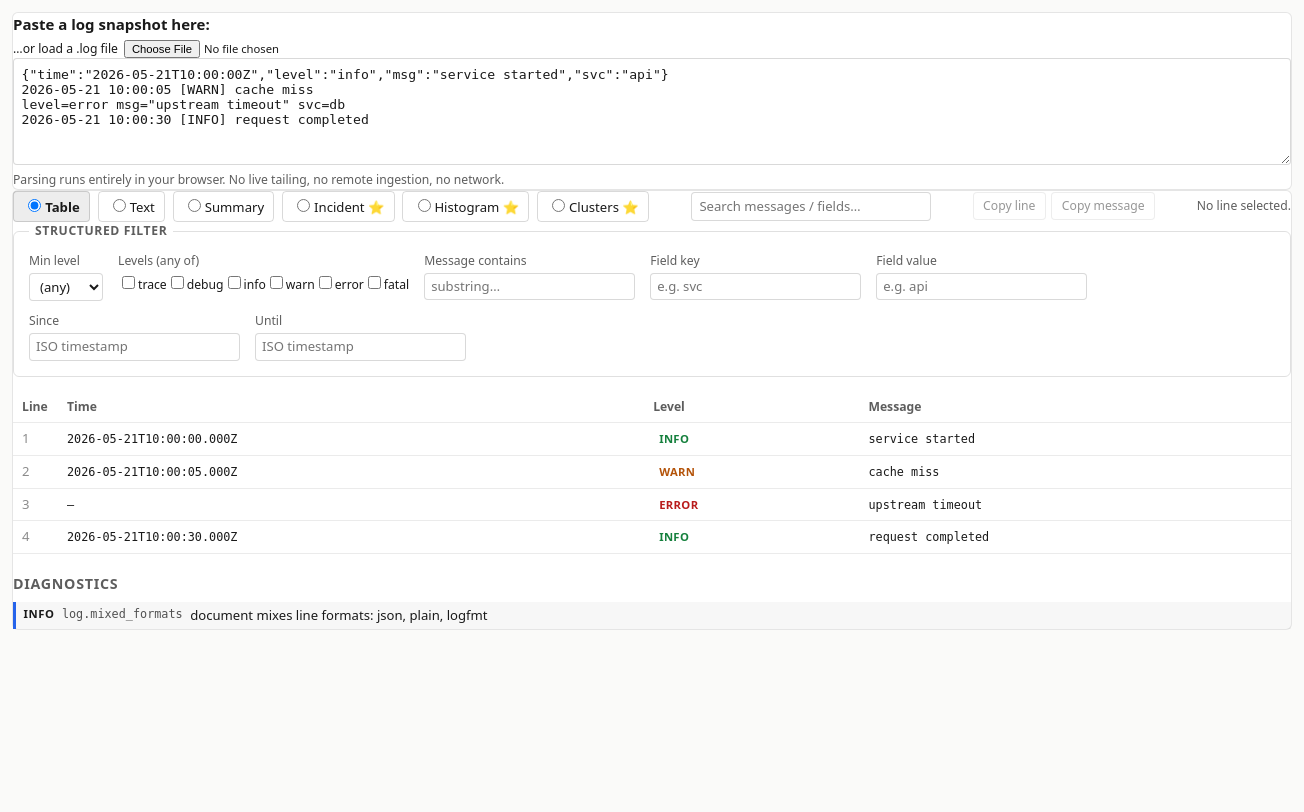
Test: LogsApp integration › a multi-level levelIn filter keeps every selected level (warn + error)
Click the checkbox with test id "log-filter-levelin-warn" at (276, 282), box x1=270 y1=276 x2=283 y2=289
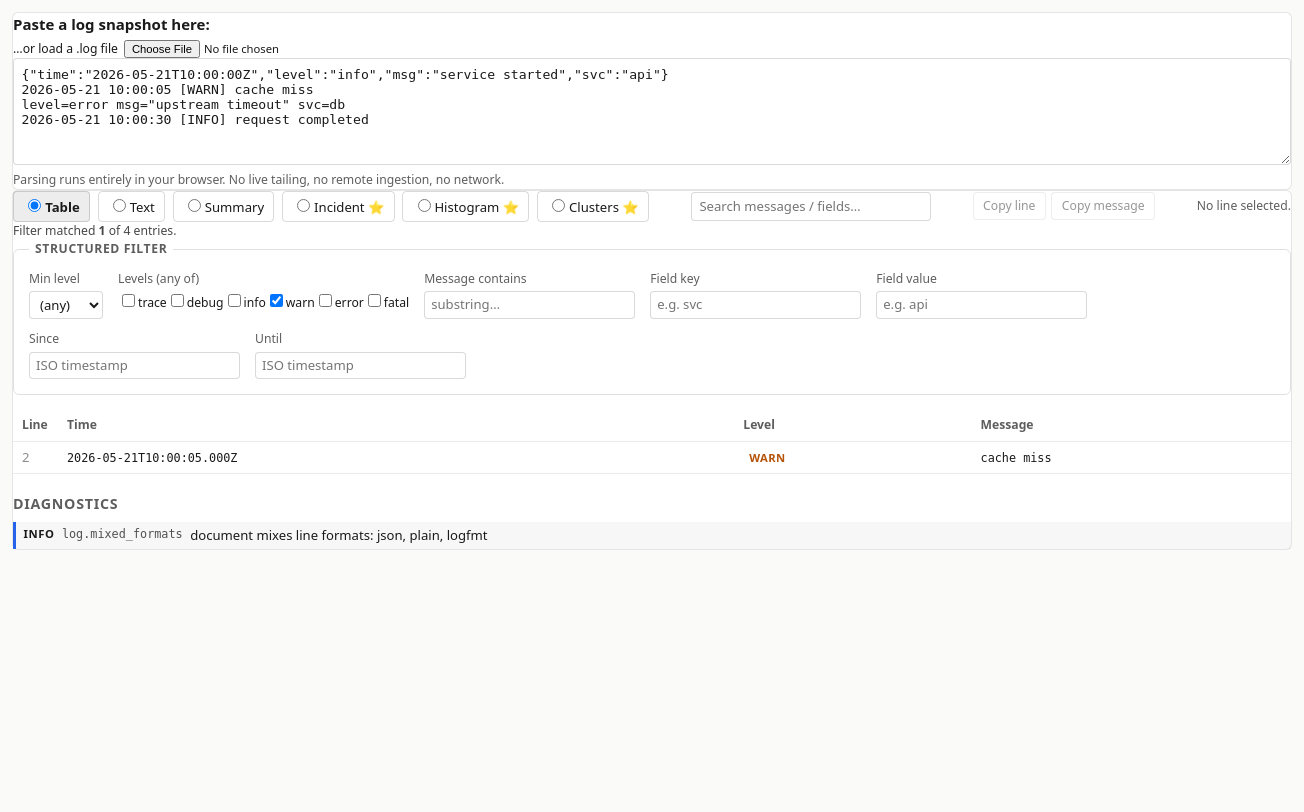
Click the checkbox with test id "log-filter-levelin-error" at (325, 301), box x1=319 y1=294 x2=332 y2=307
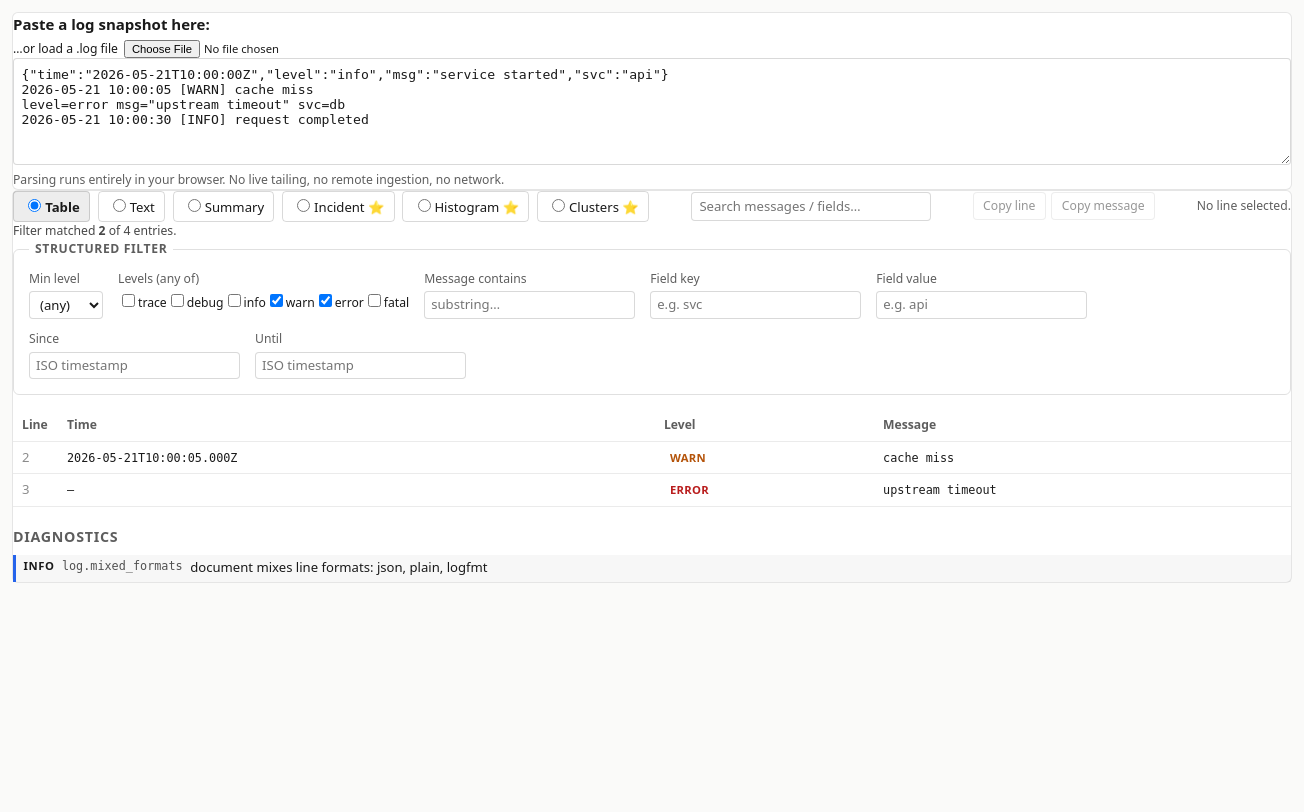
expect the element with test id "logs-matched-count" reads "Filter matched 2 of 4 entries.": met, box x1=13 y1=222 x2=176 y2=239
